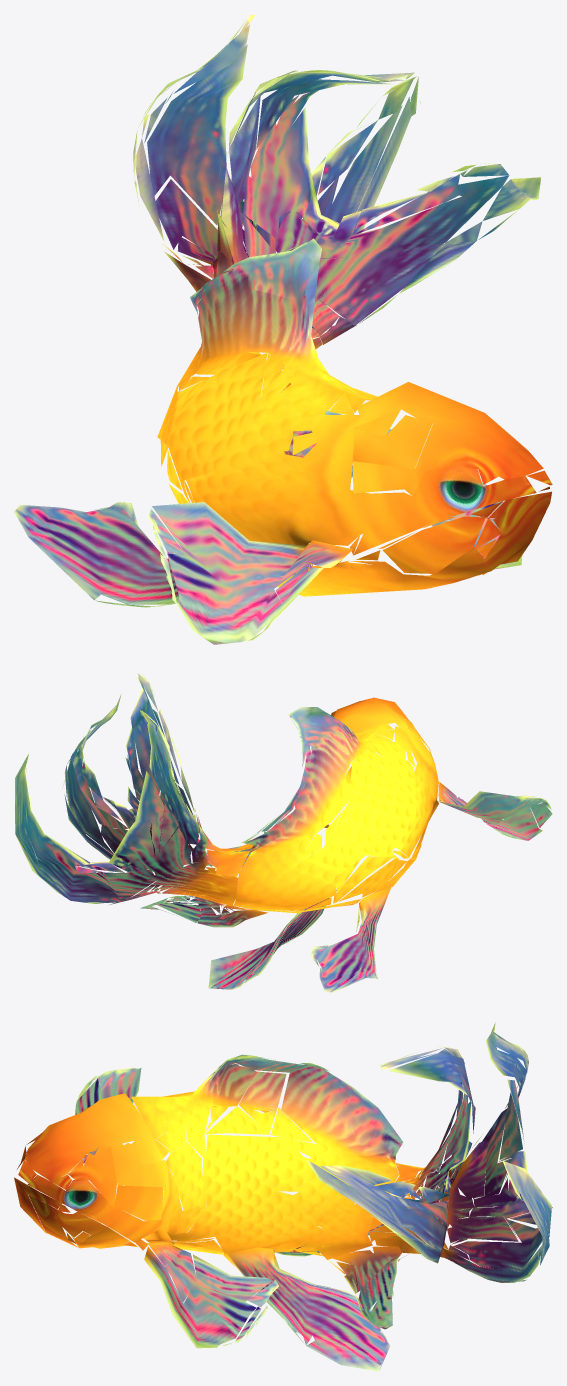
File: fish_2k.glb
3 renders of one model, top to bottom at view 1: azimuth 30°, elevation 25°; view 2: azimuth 150°, elevation 25°; view 3: azimuth 270°, elevation 25°, orthographic. The views are drawn at different scales.
Visible parts, largest first — view 1: G_Fish67, G_Fish67_G_Fish_tex_0.001, G_Fish67_G_Fish_tex_0.002, G_Fish67_G_Fish_tex_0.003; view 2: G_Fish67, G_Fish67_G_Fish_tex_0.001, G_Fish67_G_Fish_tex_0.002, G_Fish67_G_Fish_tex_0.003; view 3: G_Fish67_G_Fish_tex_0.002, G_Fish67_G_Fish_tex_0.001, G_Fish67, G_Fish67_G_Fish_tex_0.003.
Part boxes in pixels (left/top/right/bottom): G_Fish67: left=133, top=16, right=551, bottom=596; G_Fish67_G_Fish_tex_0.001: left=14, top=15, right=549, bottom=644; G_Fish67_G_Fish_tex_0.002: left=144, top=21, right=552, bottom=640; G_Fish67_G_Fish_tex_0.003: left=195, top=163, right=522, bottom=569; G_Fish67: left=108, top=675, right=438, bottom=913; G_Fish67_G_Fish_tex_0.001: left=15, top=693, right=551, bottom=992; G_Fish67_G_Fish_tex_0.002: left=26, top=673, right=552, bottom=989; G_Fish67_G_Fish_tex_0.003: left=64, top=727, right=266, bottom=874; G_Fish67_G_Fish_tex_0.002: left=18, top=1047, right=552, bottom=1371; G_Fish67_G_Fish_tex_0.001: left=24, top=1022, right=551, bottom=1329; G_Fish67: left=14, top=1029, right=528, bottom=1265; G_Fish67_G_Fish_tex_0.003: left=52, top=1081, right=475, bottom=1348.
Size of the model in its own units: 6.4 by 5.42 by 7.36.
Materials: 1 (1 with a texture image).
